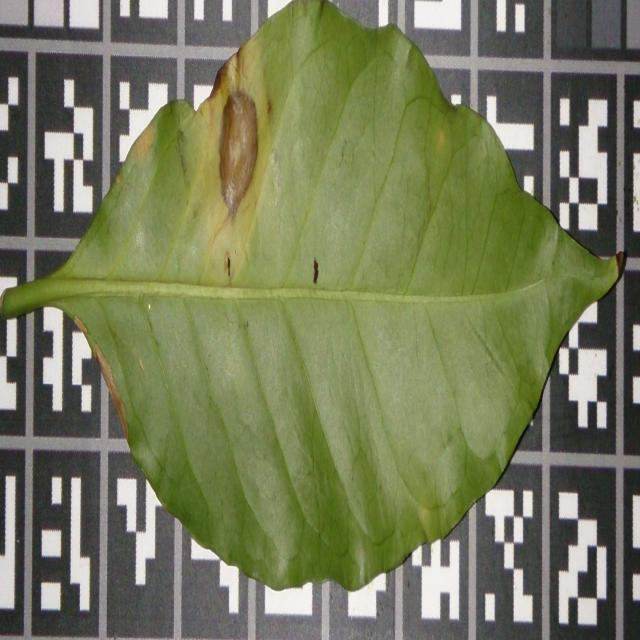Enfermedad-Mancha-de-hierro: (20, 0, 622, 594)
